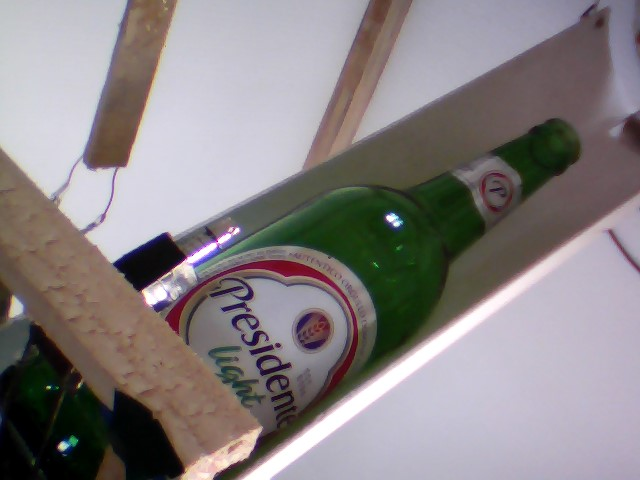vidrio: (191, 112, 594, 444)
